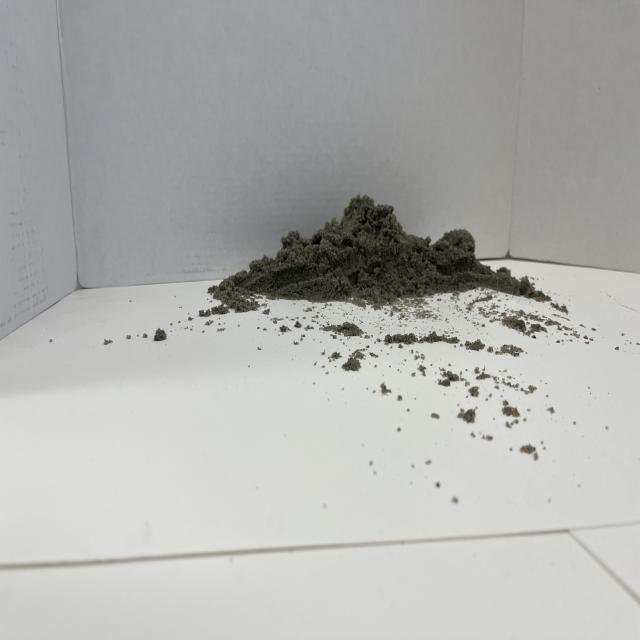sand: (232, 174, 521, 317)
